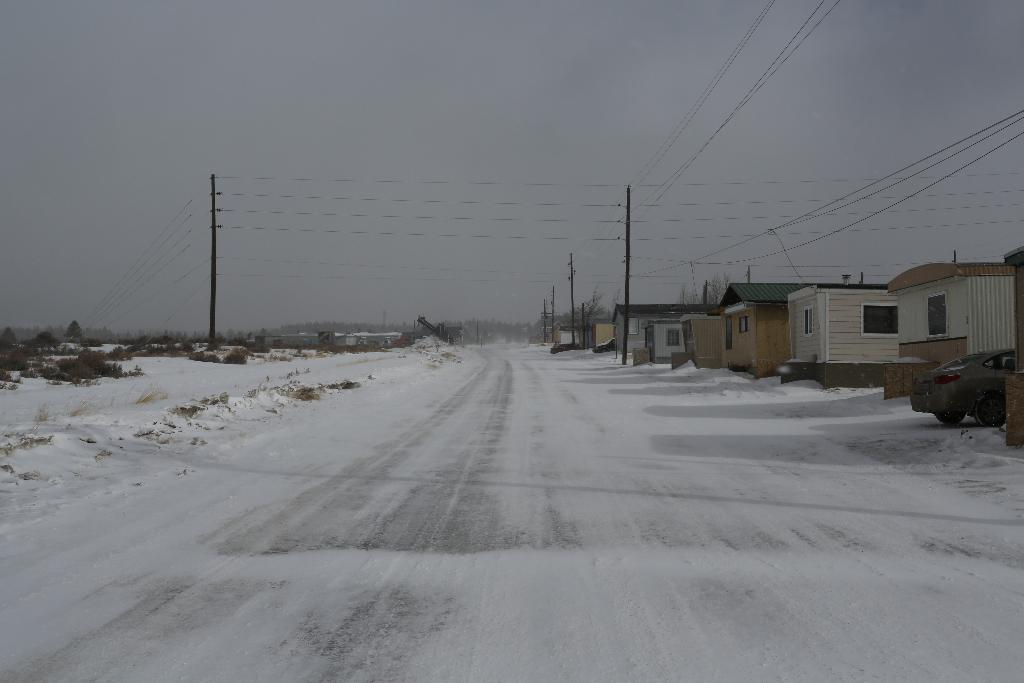Car: (907, 347, 1016, 426)
